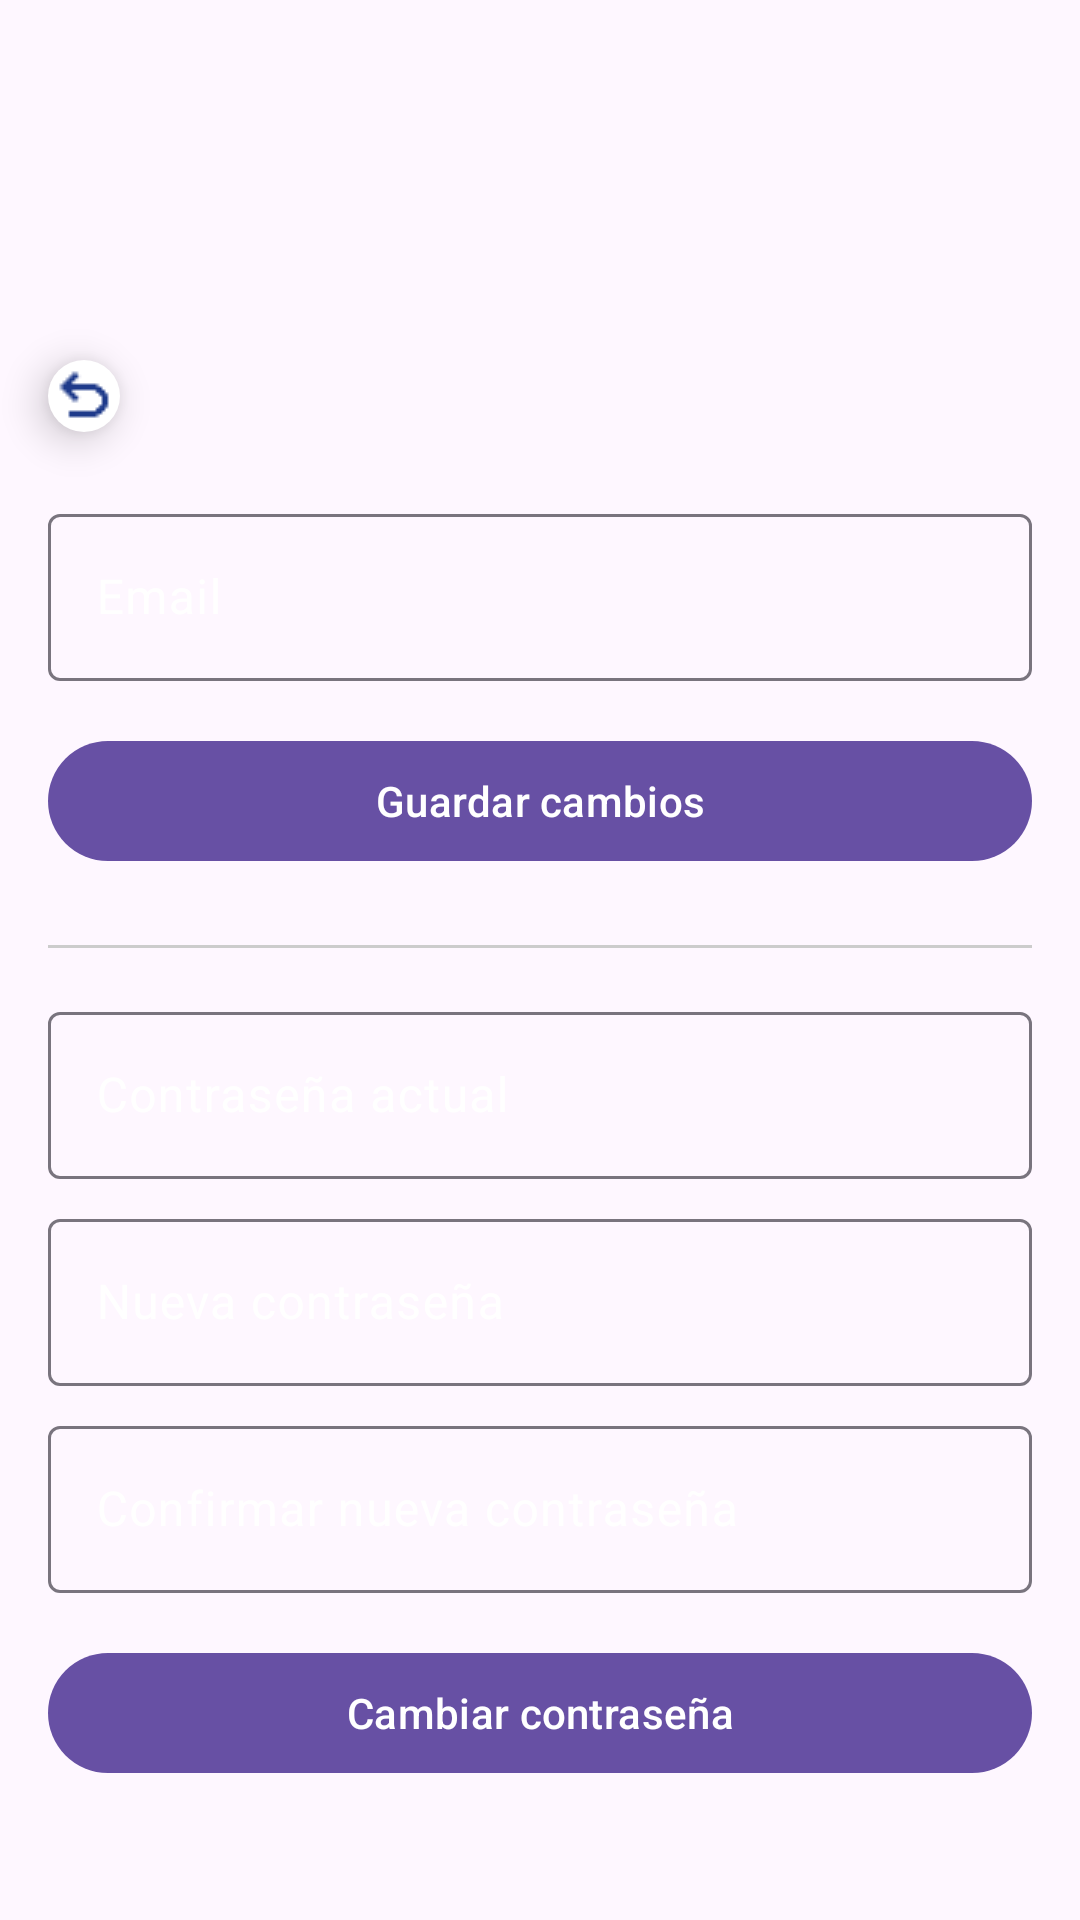

Named icons in this screenshot (1080w x 1920h) and their centers, (x,y):
Volver al login: (84,396)
